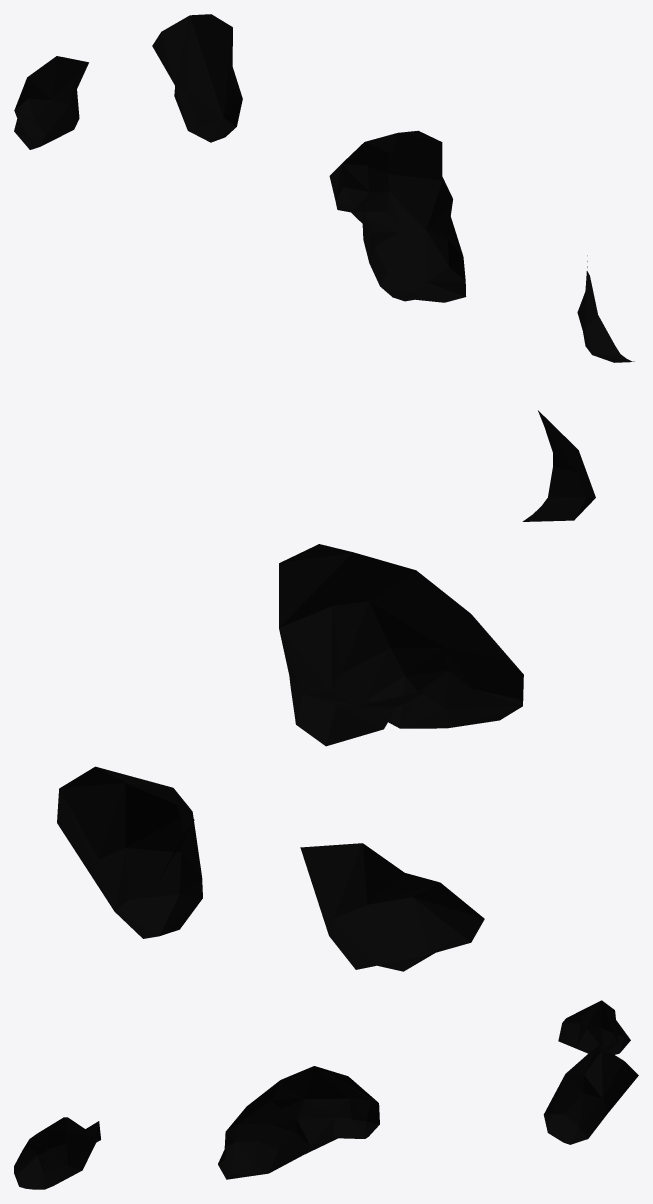
3 renders of one model, top to bottom at view 1: azimuth 30°, elevation 25°; view 2: azimuth 150°, elevation 25°; view 3: azimuth 270°, elevation 25°, orthographic. The views are drawn at different scales.
Bounding box in the file's own units: 1.2 × 0.5229 × 2.71.
Materials: 1 (1 with a texture image).
